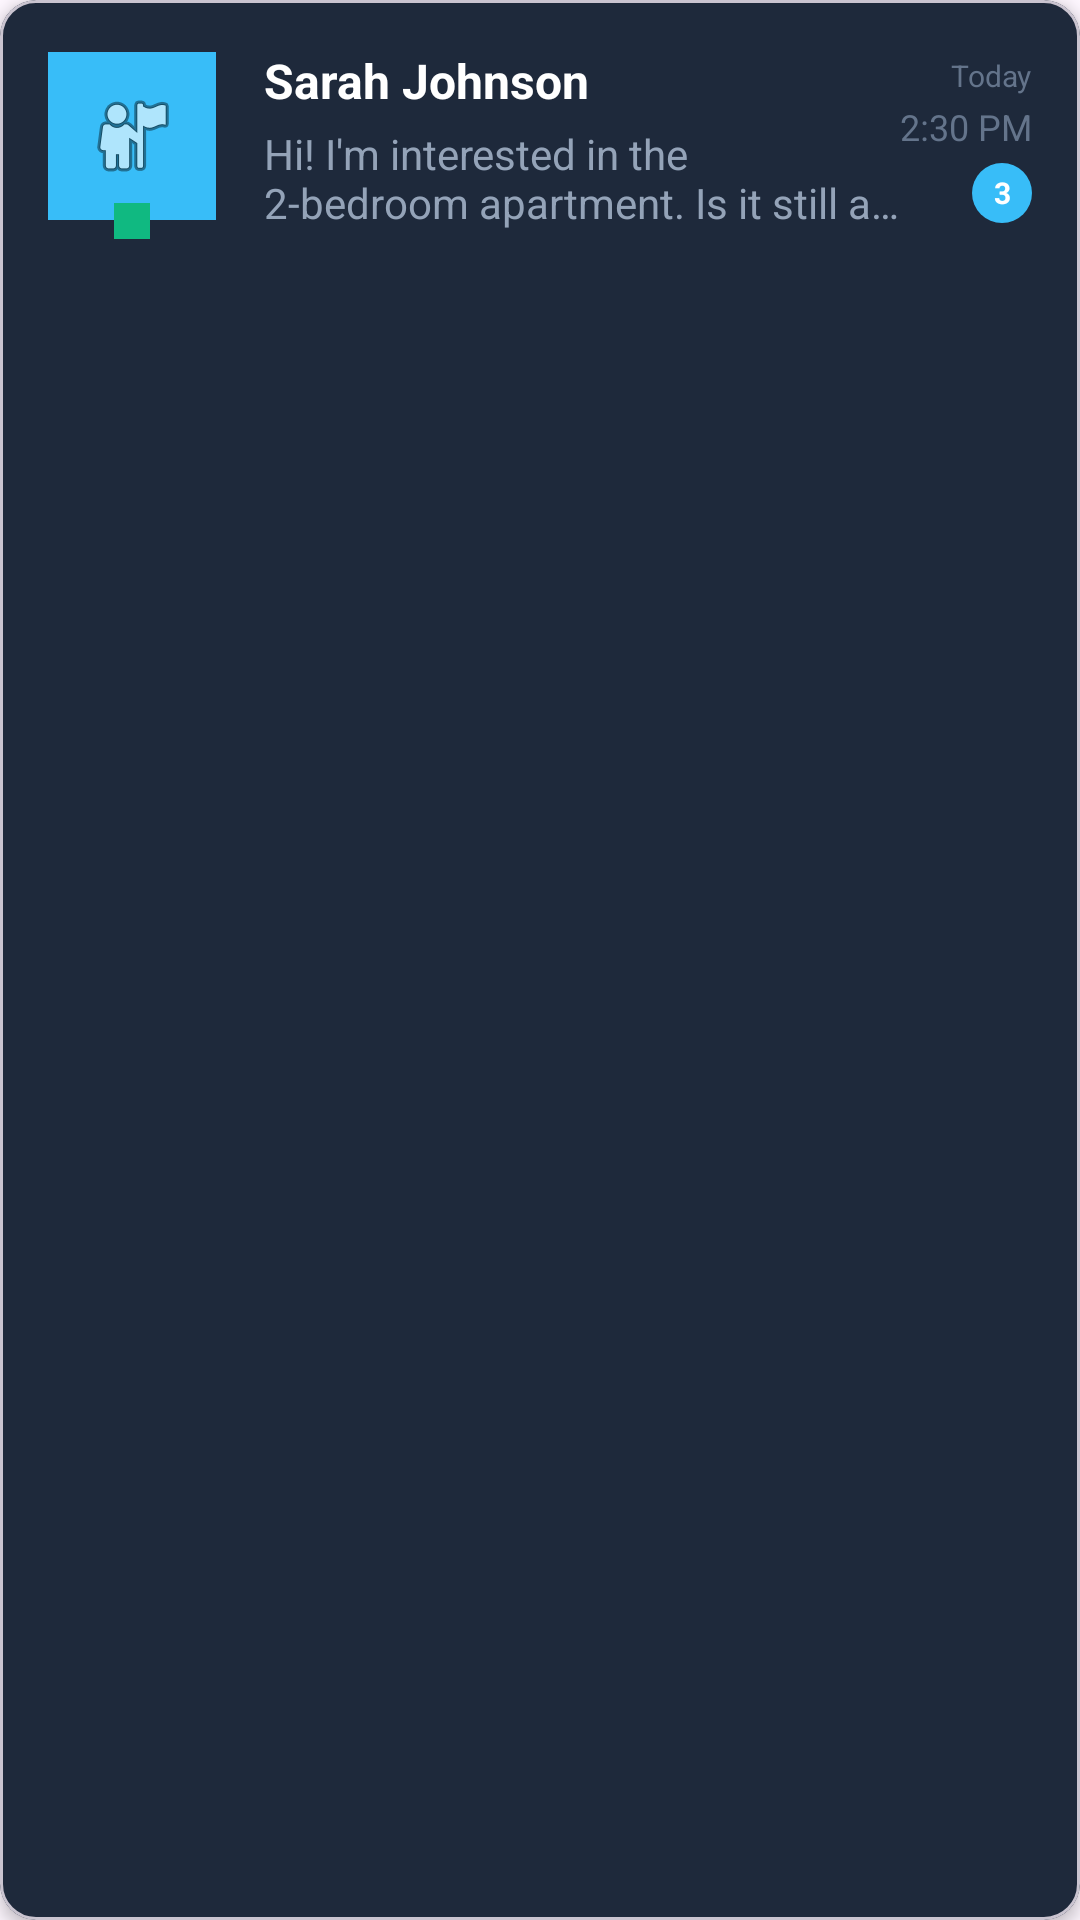

Named icons in this screenshot (1080w x 1920h) and their centers, point (x, y):
myplaces: point (132, 136)
